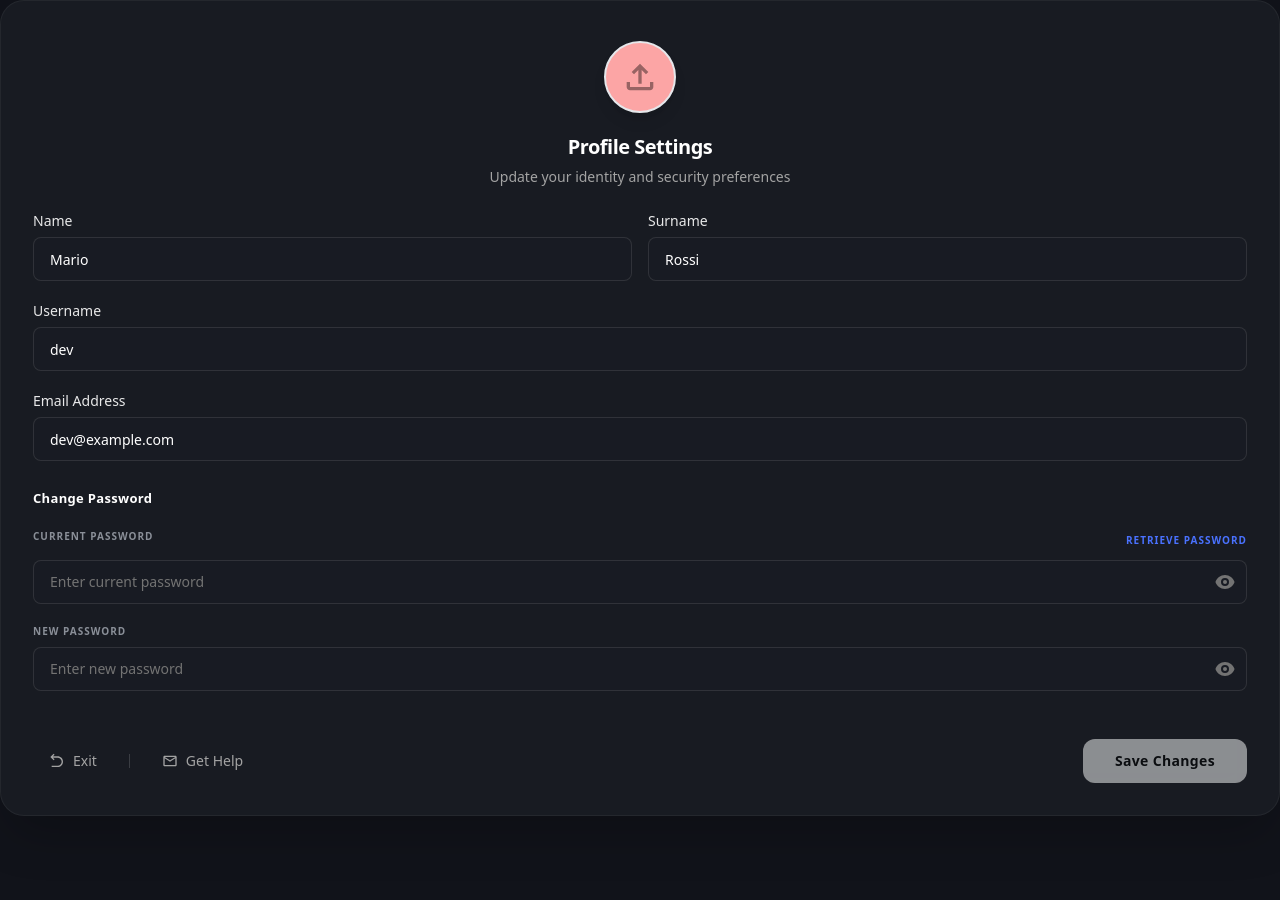
ProfileSettingsSection › shows and clears the backend username uniqueness error
Step 1. Replace the text in the field with placeholder "Username" below "Username" with "Taken-Name" → (640, 349), box [33, 327, 1247, 371]
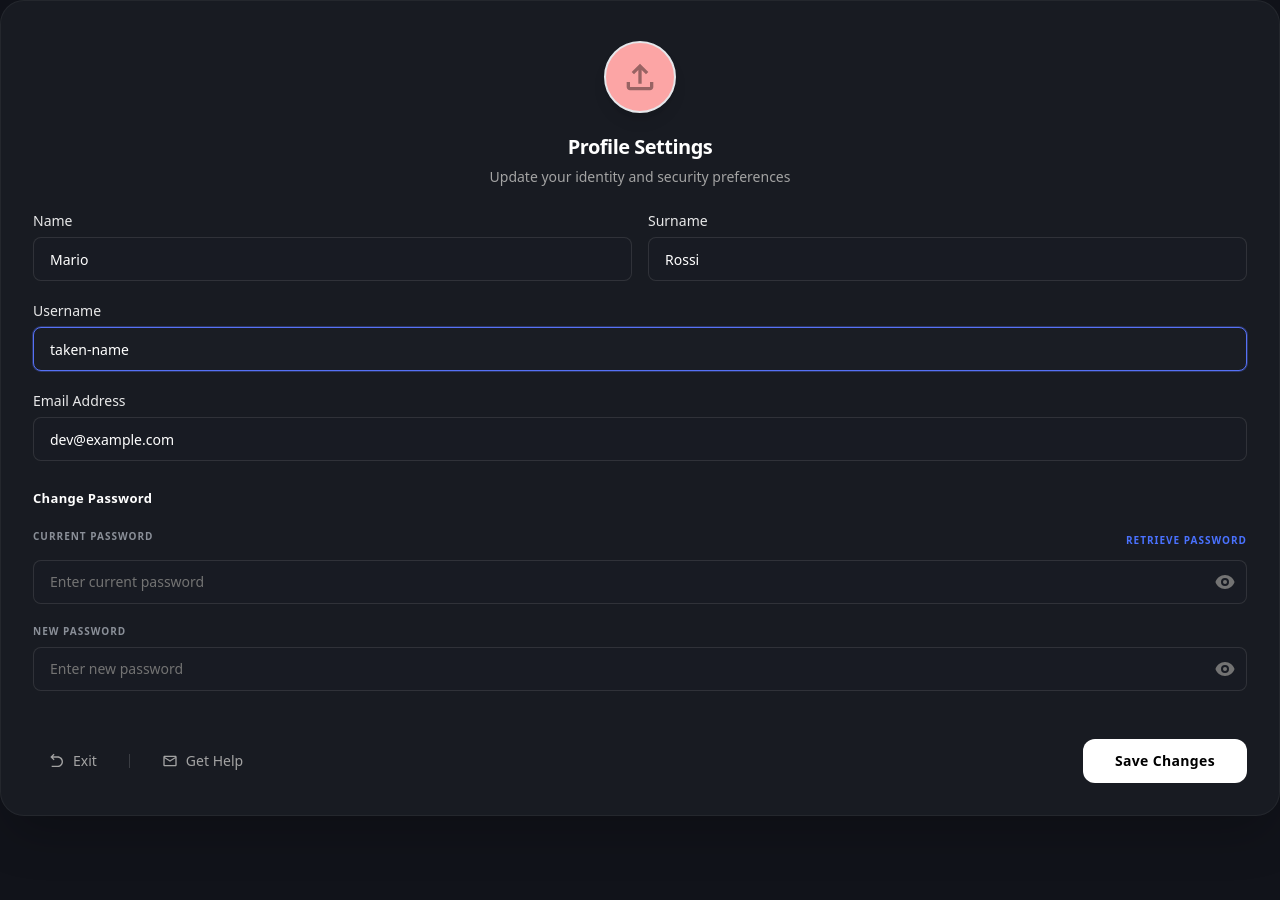
Step 2. Click the button "Save Changes" → (1165, 760), box [1083, 738, 1247, 782]
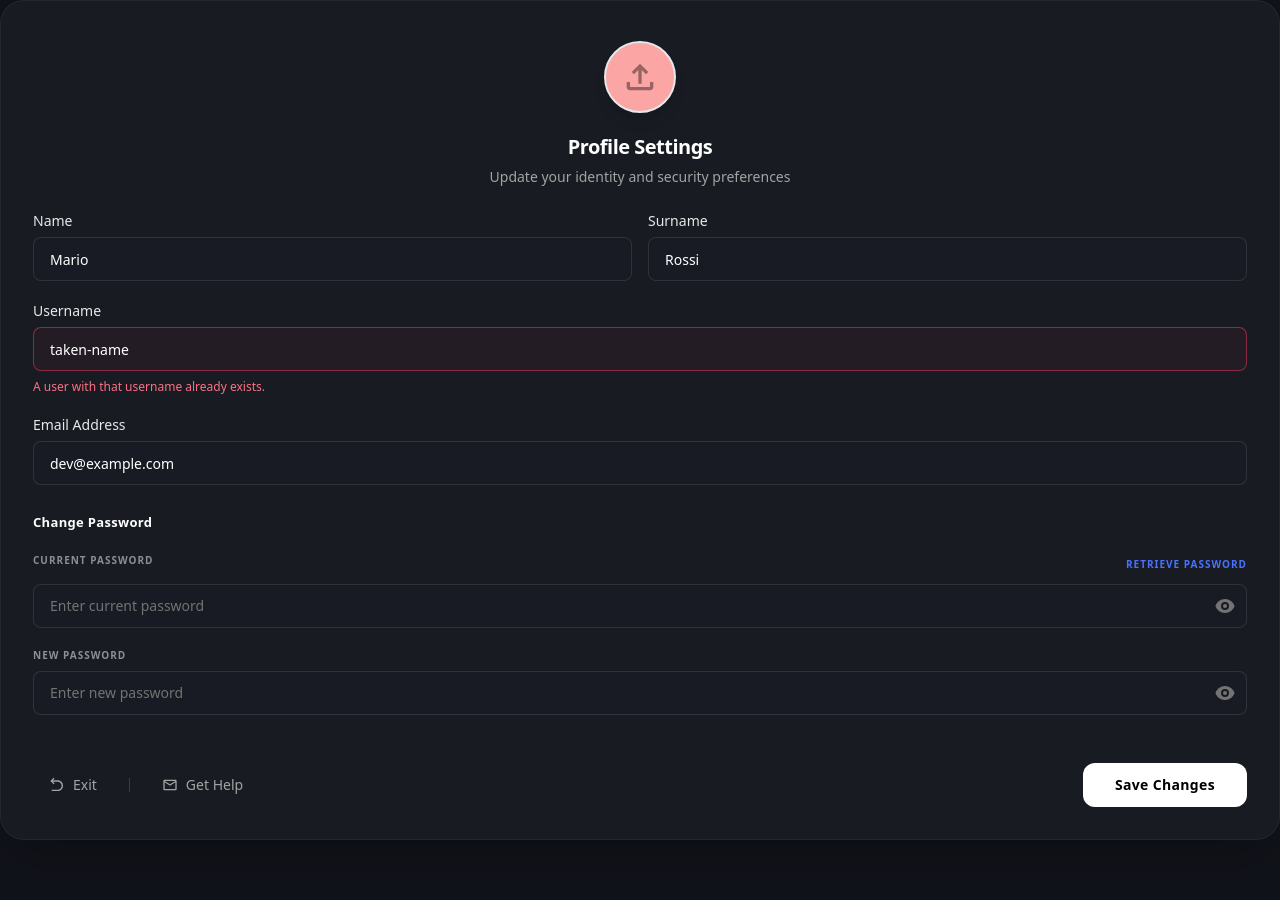
expect the text "A user with that username already exists." is shown: met, box [33, 378, 265, 395]
Step 3. Type "2" into the 3rd field with placeholder "Username" → (640, 349), box [33, 327, 1247, 371]
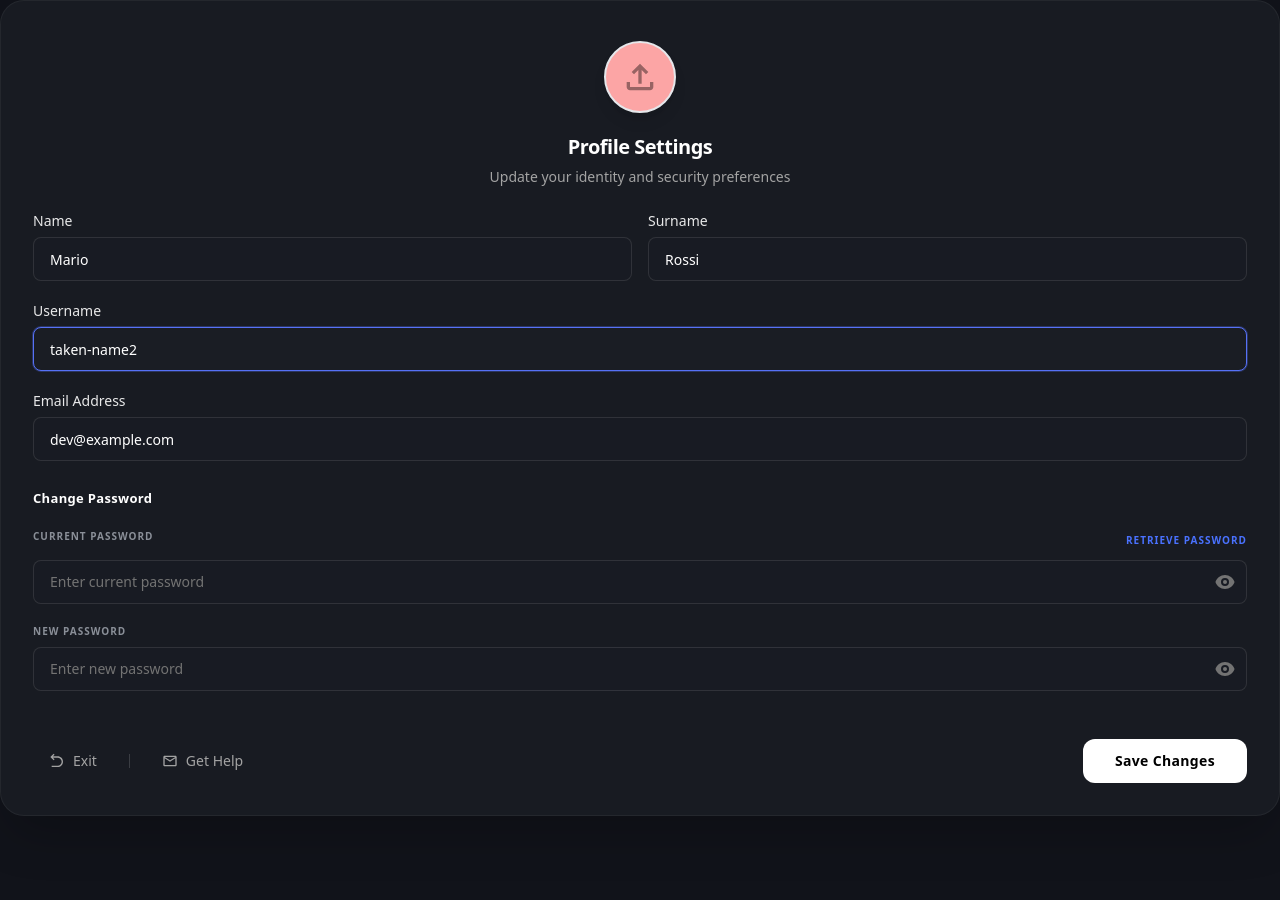
expect the text "A user with that username already exists." is gone: met
